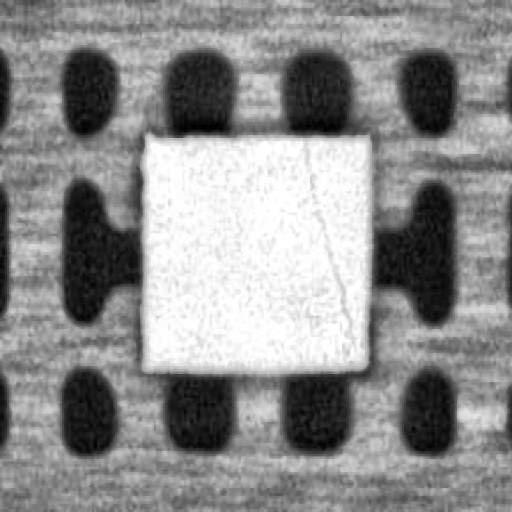DIE_CRACK: (301, 138, 351, 340)
